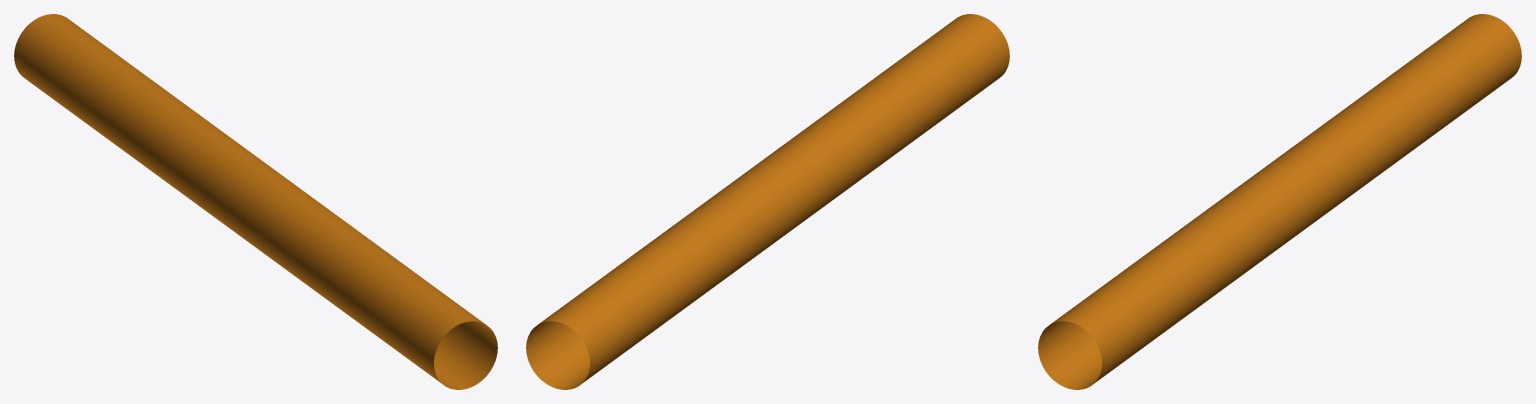
Rendered from Btube2.fbx.
The picture shows the model from 3 angles, left to right: view 1: azimuth 30°, elevation 25°; view 2: azimuth 150°, elevation 25°; view 3: azimuth 330°, elevation 25°; orthographic projection.
Parts seen in each view (by area): view 1: Cylinder011; view 2: Cylinder011; view 3: Cylinder011.
Part boxes in pixels (x1,y1,x2,y2): Cylinder011: [14, 14, 497, 389]; Cylinder011: [526, 14, 1009, 389]; Cylinder011: [1038, 14, 1521, 389].
Bounding box in the file's own units: 6.46 × 6.45 × 73.34.
